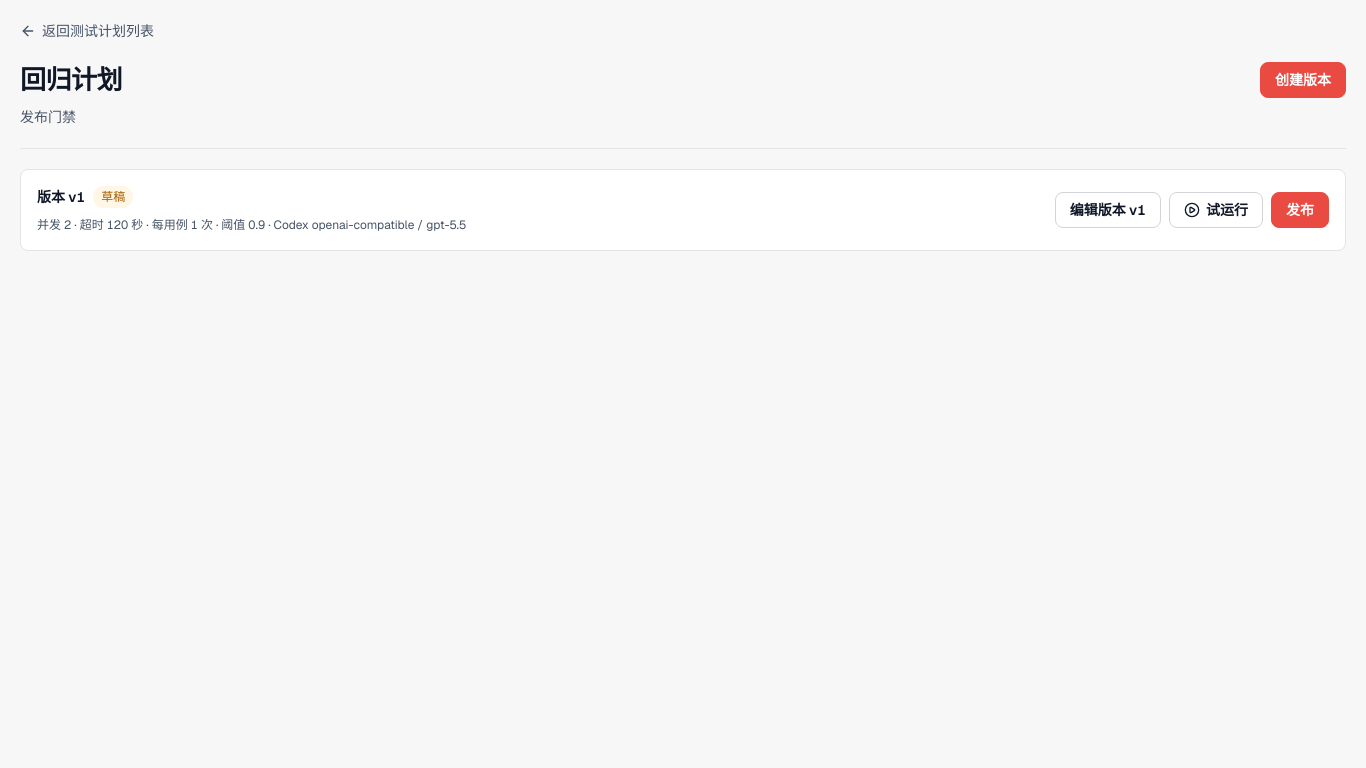
TestPlanDetail › toggles observation mode in step 3
What coordinates should you click on to do the following:
click the button "创建版本"
I would click on:
 (1303, 80)
Its box is [1260,62,1346,98].
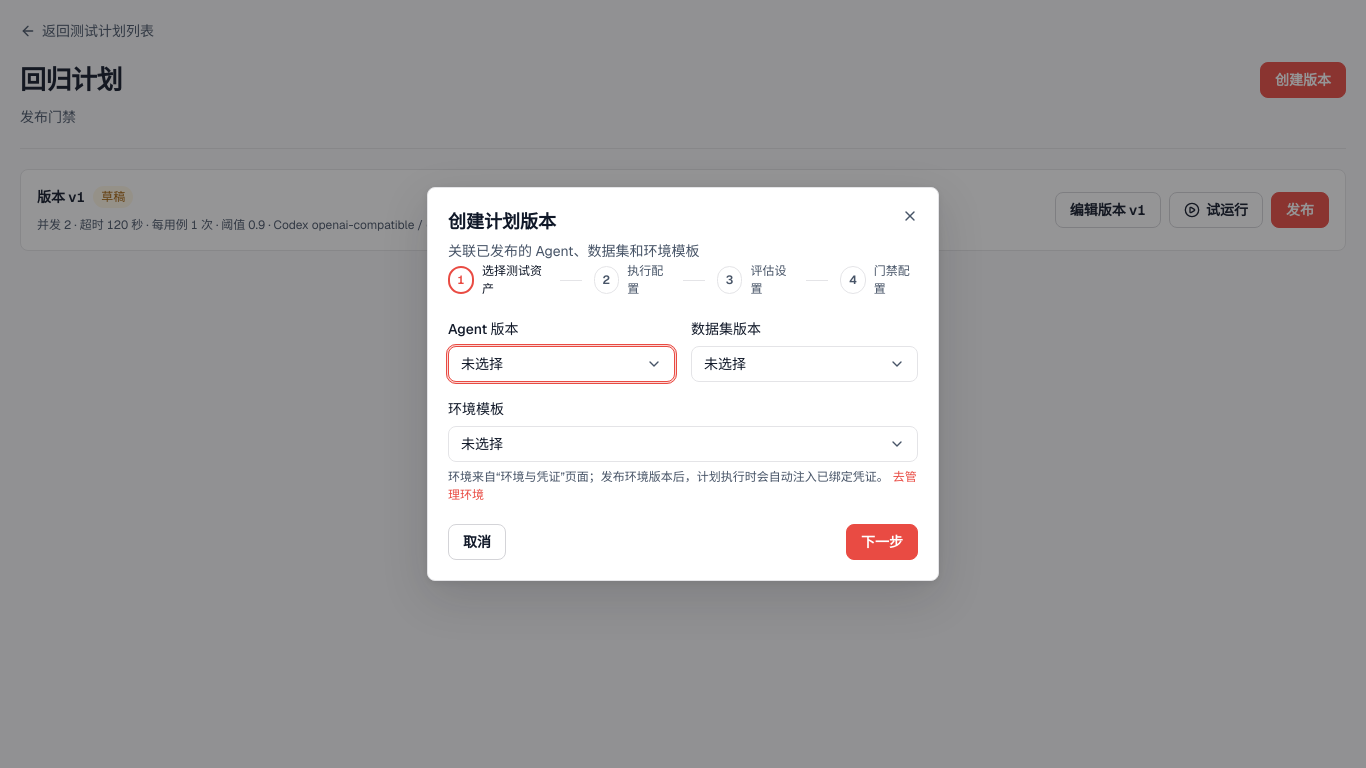
# Advance to Step 3
What coordinates should you click on to do the following:
click the button "下一步"
I would click on:
 (882, 542)
Its box is [846,524,918,560].
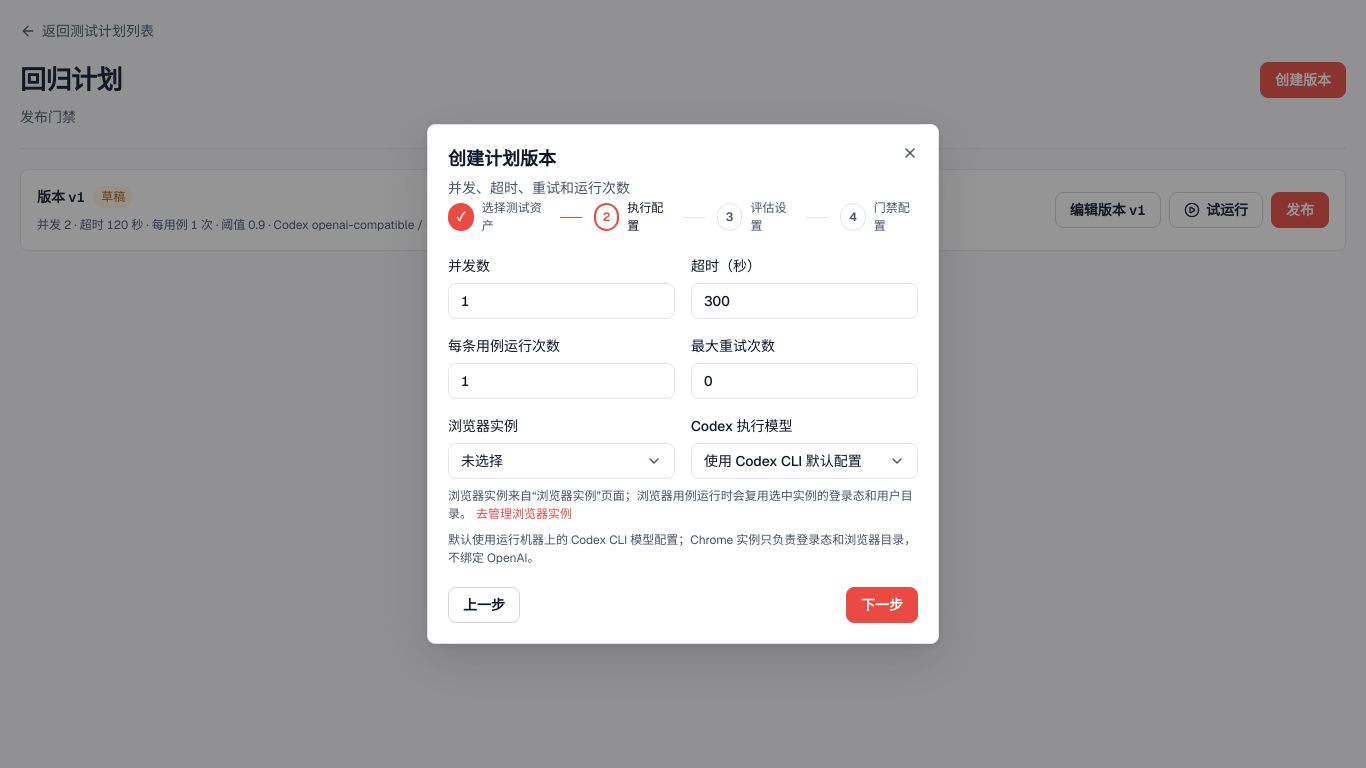
What coordinates should you click on to do the following:
click the button "下一步"
I would click on:
 (882, 605)
Its box is [846,587,918,623].
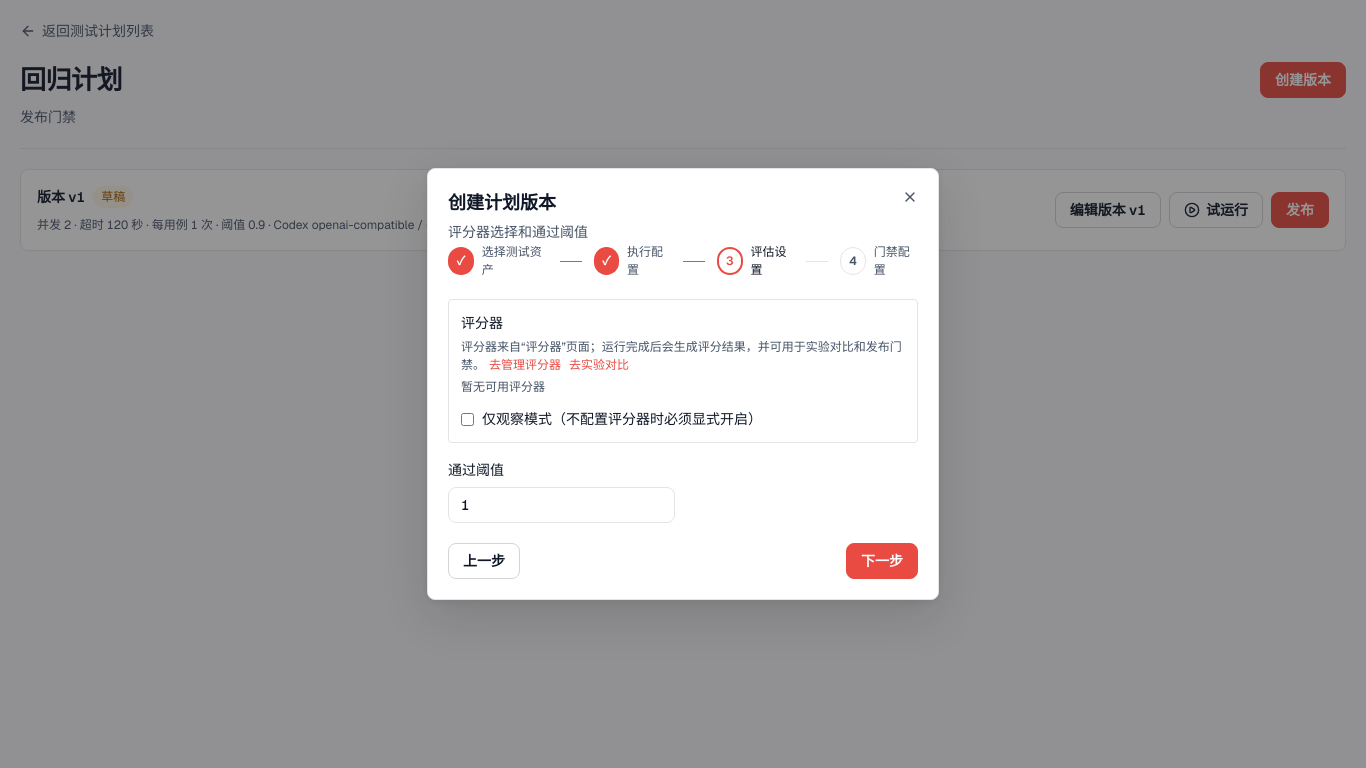
expect the checkbox labelled "仅观察模式（不配置评分器时必须显式开启）" is shown: met, box [461,412,474,426]
